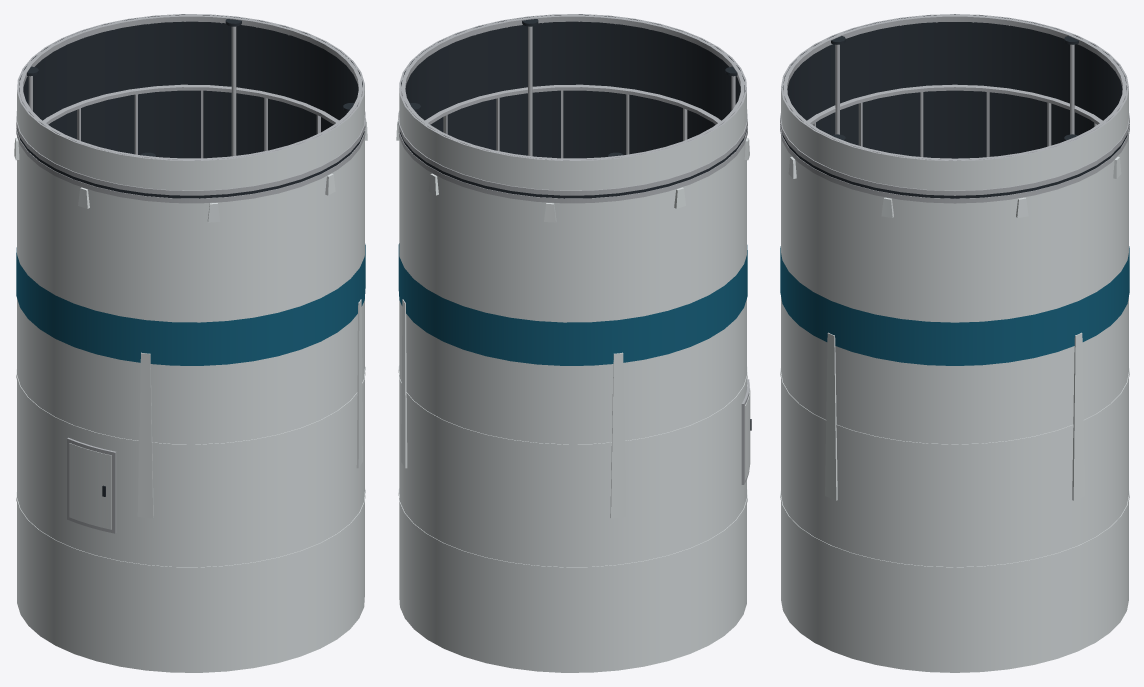
File: interstage_pneumatic_d37.glb
The picture shows the model from 3 angles, left to right: view 1: azimuth 30°, elevation 25°; view 2: azimuth 150°, elevation 25°; view 3: azimuth 270°, elevation 25°; orthographic projection.
Parts seen in each view (by area): view 1: interstage_pneumatic_d37_mesh; view 2: interstage_pneumatic_d37_mesh; view 3: interstage_pneumatic_d37_mesh.
Boxes of the visible parts, x1=… form: interstage_pneumatic_d37_mesh: x1=14, y1=14, x2=367, y2=672; interstage_pneumatic_d37_mesh: x1=396, y1=14, x2=751, y2=672; interstage_pneumatic_d37_mesh: x1=780, y1=14, x2=1129, y2=672.
Size of the model in its own units: 3.72 by 6 by 3.72.
